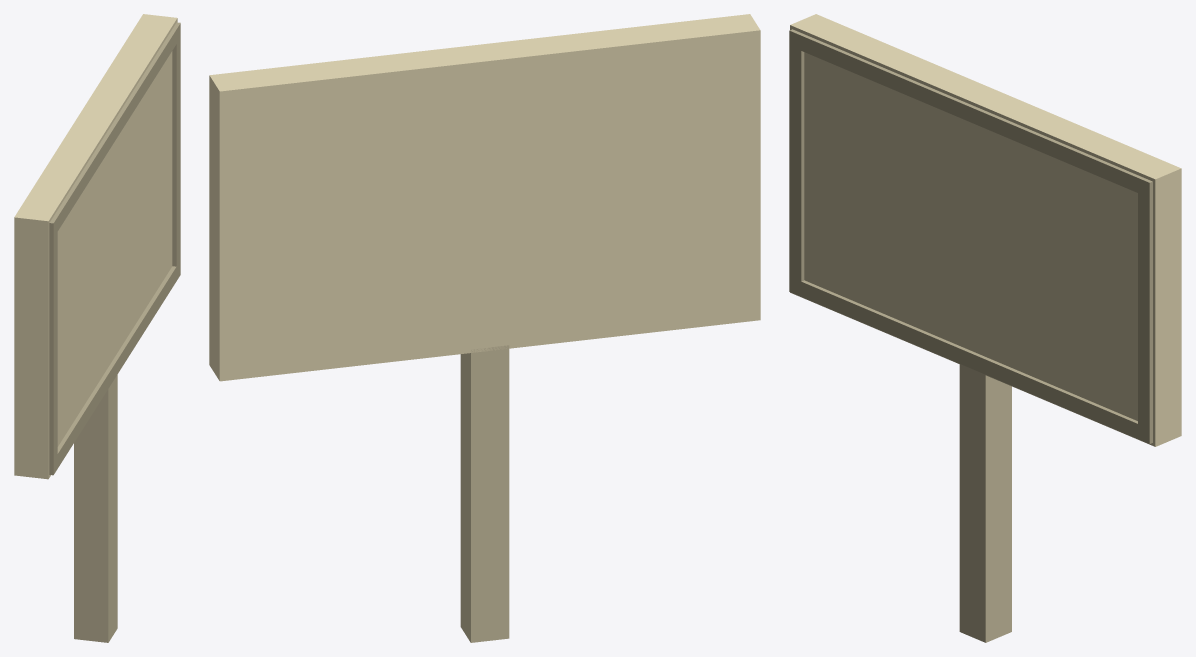
Rendered from sign_birch_diag.gltf.
The picture shows the model from 3 angles, left to right: view 1: azimuth 30°, elevation 25°; view 2: azimuth 150°, elevation 25°; view 3: azimuth 270°, elevation 25°; orthographic projection. The views are drawn at different scales.
Visible parts, largest first — view 1: sign_birch_diag; view 2: sign_birch_diag; view 3: sign_birch_diag.
Boxes of the visible parts, box(x1,y1,x2,y2) form: sign_birch_diag: box(14, 14, 180, 642); sign_birch_diag: box(209, 14, 760, 642); sign_birch_diag: box(789, 14, 1181, 642).
Size of the model in its own units: 0.664 by 1 by 0.664.
